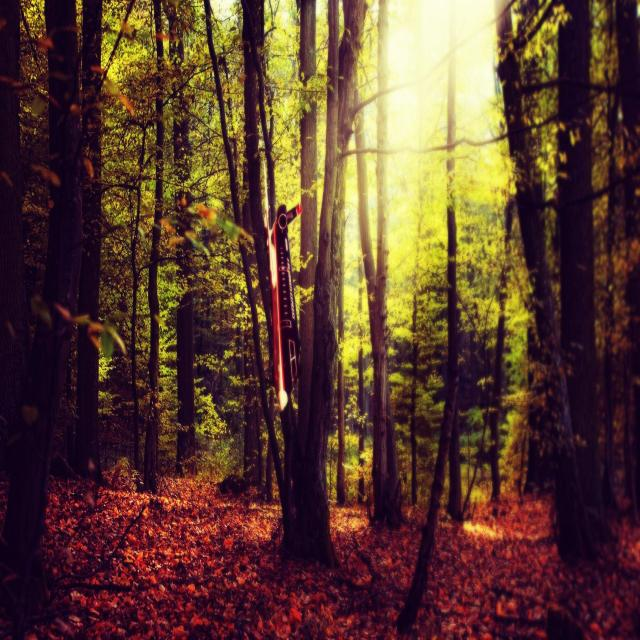airplane: (262, 158, 304, 412)
